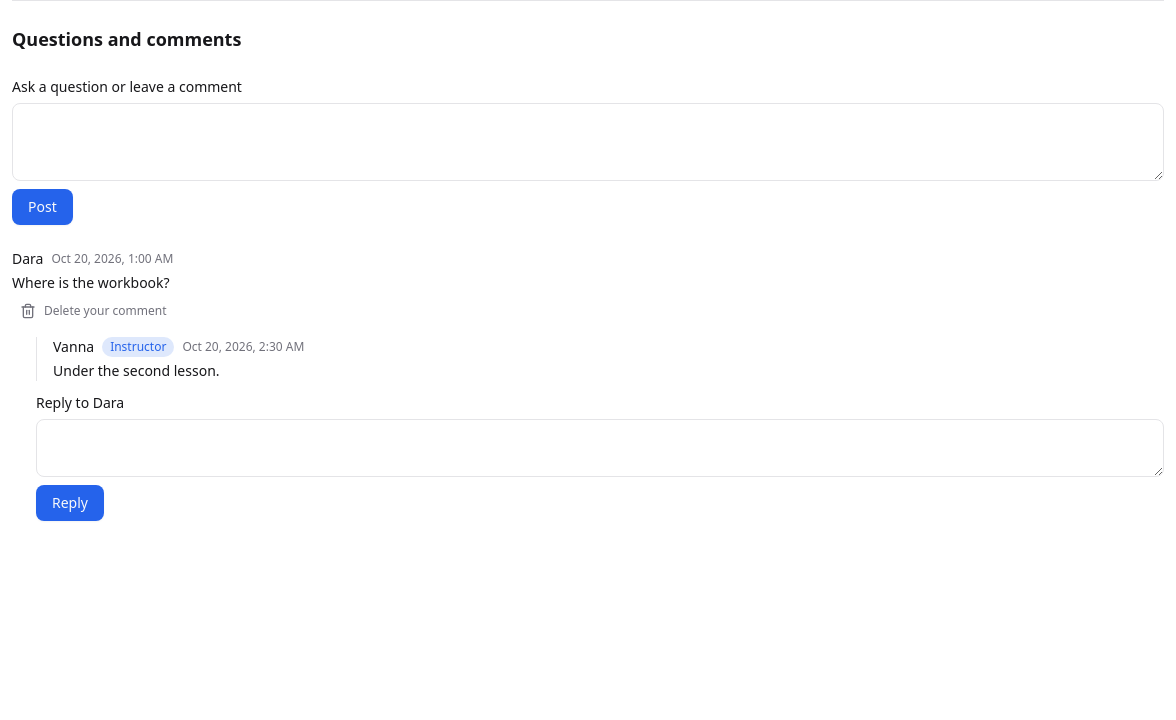
LessonComments › says a comment was too long or blank
Expected: the heading "Questions and comments" is shown, [12,27,241,51]
In the text box labelled "Ask a question or leave a comment": point(588, 142) [12,103,1164,181], type "x"
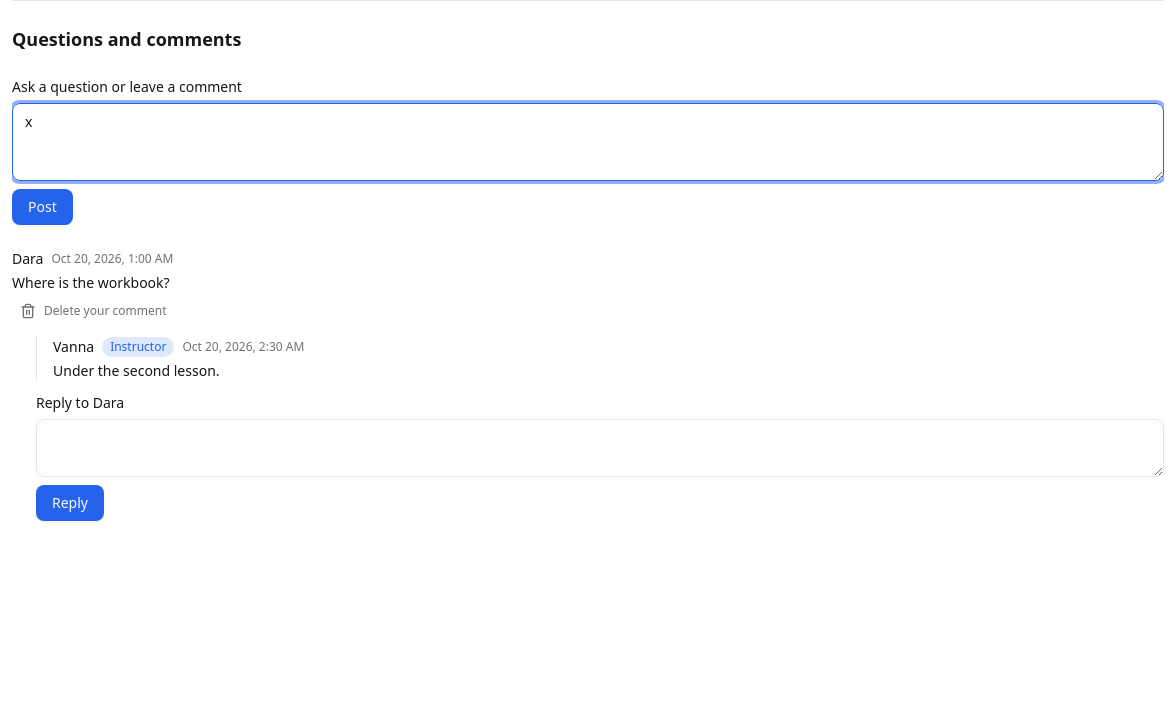
Click the button "Post": point(42, 207) [12,189,73,225]
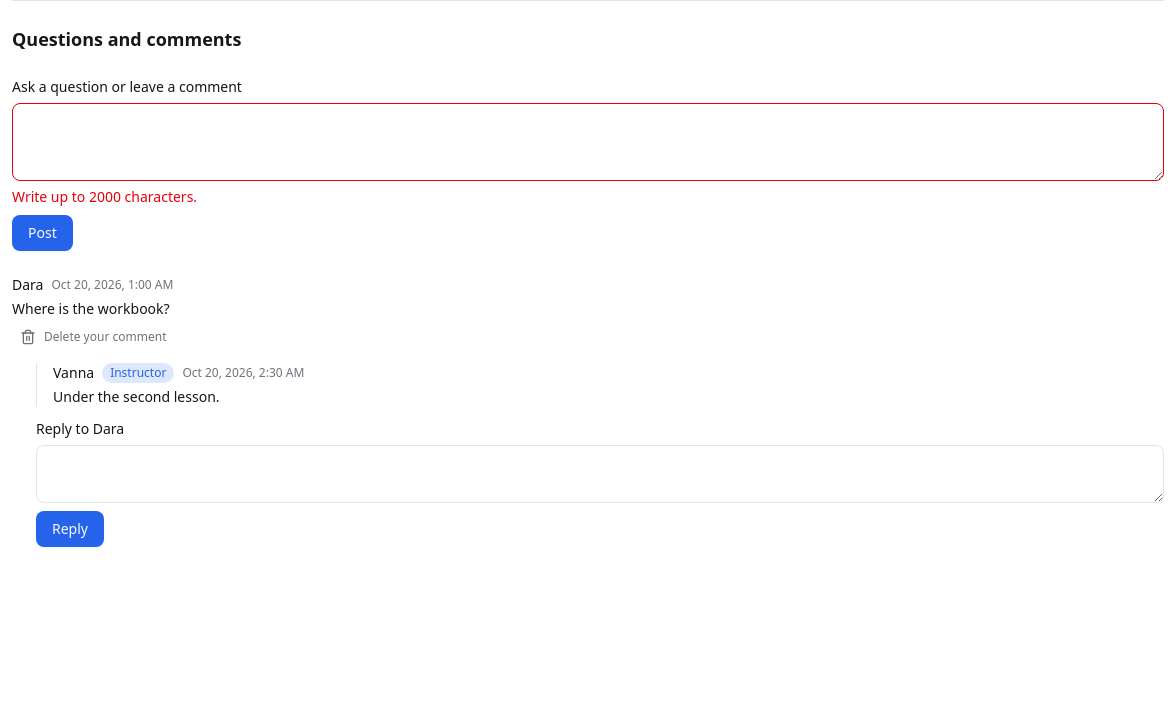
Expected: the text "Write up to 2000 characters." is shown, [12,187,197,206]
